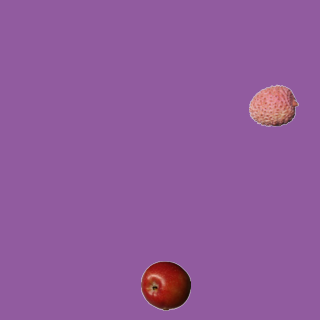Apple Braeburn: (140, 260, 190, 310)
Lychee: (248, 80, 298, 130)
